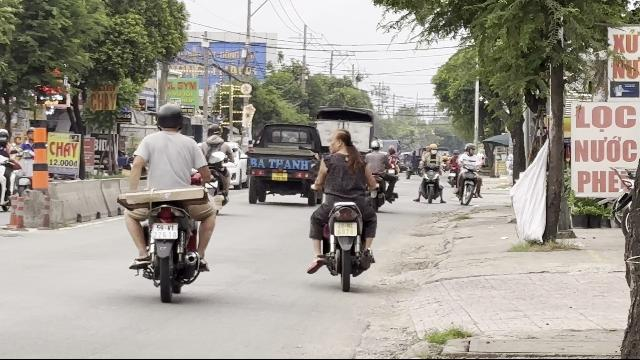helmet: (155, 102, 185, 131)
licenseplate: (150, 224, 178, 239), (335, 223, 357, 236)
motorcyclist: (114, 101, 222, 299), (305, 126, 381, 286)
nohelmet: (328, 129, 352, 153)
